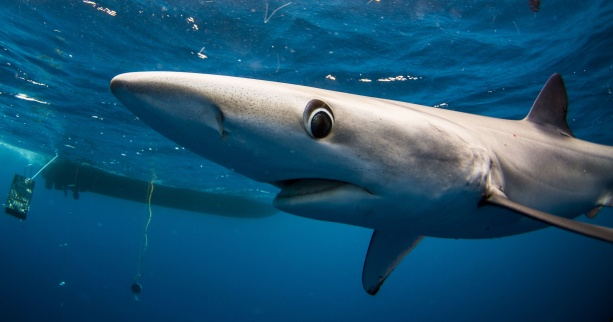Azul: (100, 41, 613, 298)
